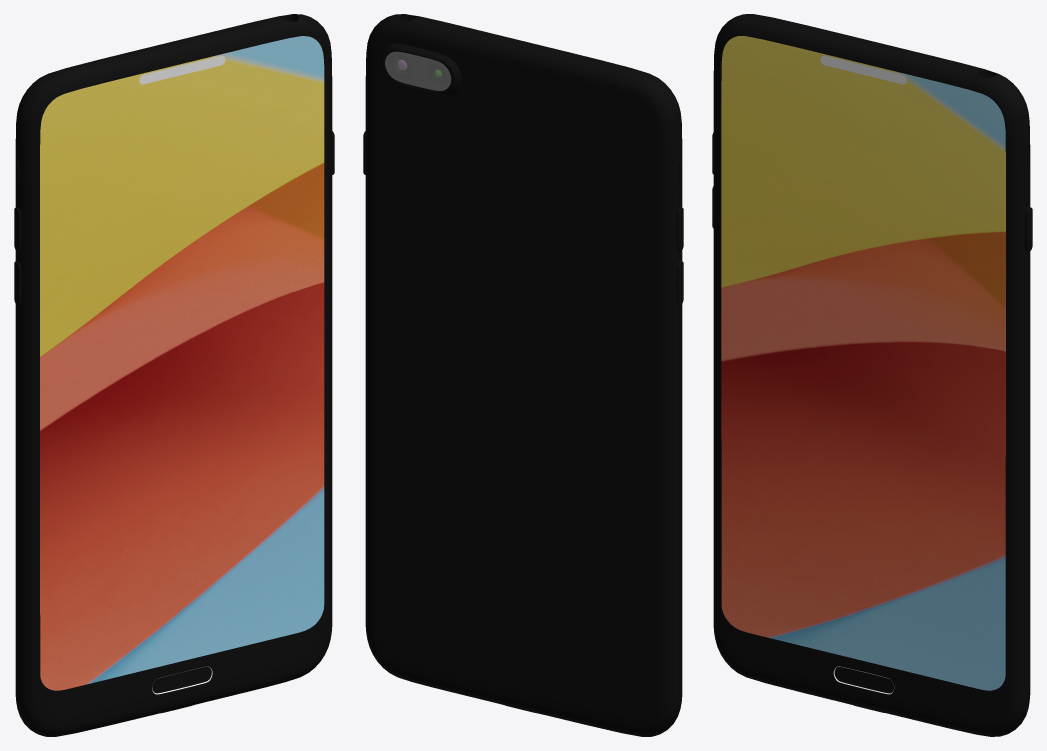
The model's file is smartphone.glb.
The picture shows the model from 3 angles, left to right: view 1: azimuth 30°, elevation 25°; view 2: azimuth 150°, elevation 25°; view 3: azimuth 330°, elevation 25°; orthographic projection.
Parts seen in each view (by area): view 1: Object_9, Object_10, Object_8; view 2: Object_10, Object_4, Object_3; view 3: Object_9, Object_10, Object_8.
Part boxes in pixels (bbox=[...]): Object_9: bbox=[40, 36, 324, 690]; Object_10: bbox=[14, 14, 334, 736]; Object_8: bbox=[139, 55, 225, 84]; Object_10: bbox=[363, 14, 683, 736]; Object_4: bbox=[385, 51, 451, 90]; Object_3: bbox=[387, 53, 446, 85]; Object_9: bbox=[721, 36, 1005, 690]; Object_10: bbox=[712, 14, 1032, 736]; Object_8: bbox=[820, 55, 906, 84].
Size of the model in its own units: 3.44 by 6.91 by 0.3647.
8 materials, 2 textured.
